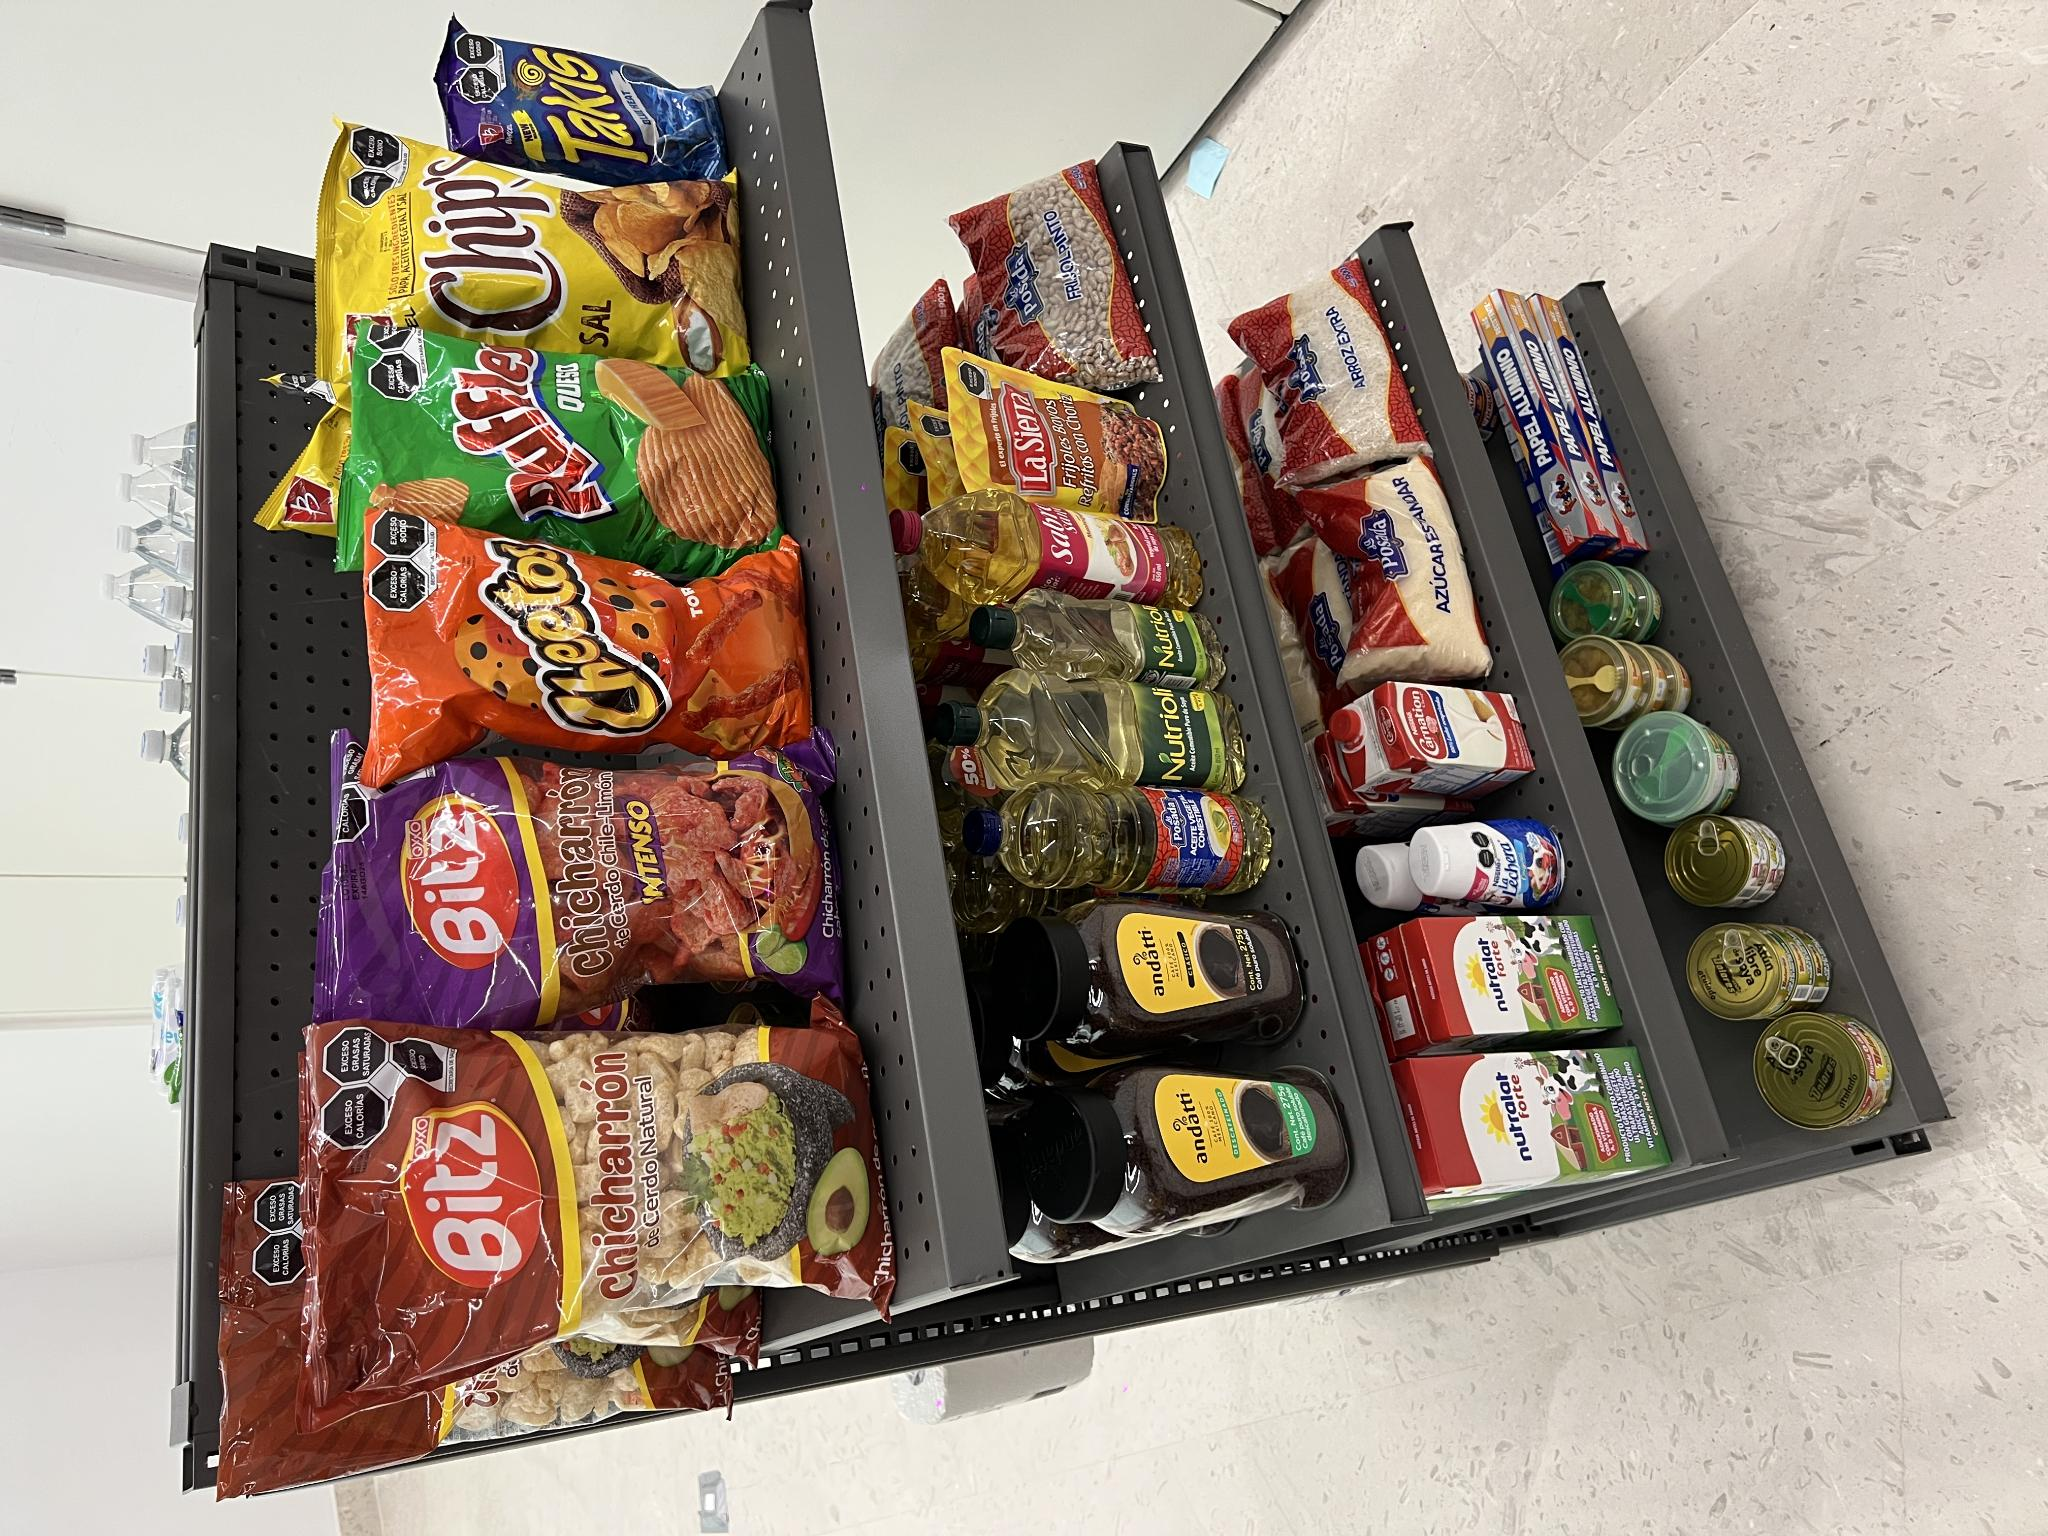aceite_nutrioli_400ml: (851, 1025, 945, 1221)
aceite_nutrioli_850ml: (750, 1004, 861, 1233)
aceite_posada: (653, 1013, 750, 1252)
aceite_saborsano: (934, 966, 1047, 1189)
andatti: (310, 1125, 463, 1349), (492, 1092, 626, 1302)
arroz_laposada: (1047, 1223, 1280, 1430)
azucar_laposada: (855, 1294, 1079, 1489)
carnation: (771, 1391, 853, 1534)
cheetos: (764, 368, 1024, 808)
chicharron_bitz_intenso: (511, 334, 779, 837)
chicharron_bitz_natural: (145, 315, 506, 895)
chips_sal: (1171, 319, 1414, 745)
frijol_laposada: (1158, 954, 1377, 1160)
frijol_lasierra: (1022, 960, 1182, 1155)
lalechera: (626, 1439, 713, 1536)
leche_nutralatforte: (352, 1412, 482, 1536), (500, 1421, 616, 1536)
ruffles: (995, 342, 1213, 778)
takis: (1366, 447, 1513, 720)
